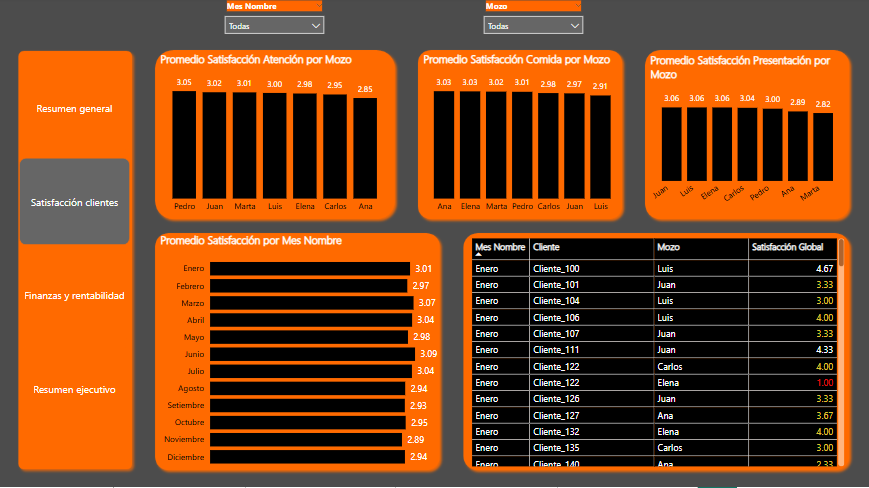

This screenshot's page, from the dashboard's own definition file:
{"tool":"powerbi","page":{"name":"Satisfacción clientes","canvas":[1280,720],"ordinal":1},"visuals":[{"type":"slicer","fields":{"Values":["Calendario.Mes Nombre"]},"box":[323.3,0,166,70.5],"z":1000},{"type":"slicer","fields":{"Values":["Mozos.Mozo"]},"box":[703.8,0,166,72],"z":2000},{"type":"clusteredColumnChart","fields":{"Category":["Mozos.Mozo"],"Y":["Medidas_restaurantes.Promedio Satisfacción Atención"]},"box":[233.6,79.3,346.8,246.9],"z":3000},{"type":"clusteredColumnChart","fields":{"Category":["Mozos.Mozo"],"Y":["Medidas_restaurantes.Promedio Satisfacción Comida"]},"box":[620.1,79.3,301.2,246.9],"z":4000},{"type":"clusteredColumnChart","fields":{"Category":["Mozos.Mozo"],"Y":["Medidas_restaurantes.Promedio Satisfacción Presentación"]},"box":[953.6,80.8,293.9,242.4],"z":5000},{"type":"tableEx","fields":{"Values":["Calendario.Mes Nombre","Encuesta Satisfacción.Cliente","Encuesta Satisfacción.Mozo","Medidas_restaurantes.Promedio Satisfacción"]},"box":[690,350,557.5,345],"z":6000},{"type":"barChart","fields":{"Y":["Medidas_restaurantes.Promedio Satisfacción"],"Category":["Calendario.Mes Nombre"]},"box":[233.6,345.3,417.3,355.6],"z":7000},{"type":"pageNavigator","box":[31.2,98.8,163.8,542.5],"z":7001}]}

Visuals, with their boxes on the page's 1280x720 design canvas (x1, y1, x2, y2). These are canvas units, not pixel positions in the 869x488 screenshot, which may show the page scaled, cropped or inside an application window:
slicer - Calendario.Mes Nombre: region(323, 0, 489, 70)
slicer - Mozos.Mozo: region(704, 0, 870, 72)
clusteredColumnChart - Mozos.Mozo x Medidas_restaurantes.Promedio Satisfacción Atención: region(234, 79, 580, 326)
clusteredColumnChart - Mozos.Mozo x Medidas_restaurantes.Promedio Satisfacción Comida: region(620, 79, 921, 326)
clusteredColumnChart - Mozos.Mozo x Medidas_restaurantes.Promedio Satisfacción Presentación: region(954, 81, 1248, 323)
tableEx - Calendario.Mes Nombre x Encuesta Satisfacción.Cliente: region(690, 350, 1248, 695)
barChart - Medidas_restaurantes.Promedio Satisfacción x Calendario.Mes Nombre: region(234, 345, 651, 701)
pageNavigator: region(31, 99, 195, 641)
